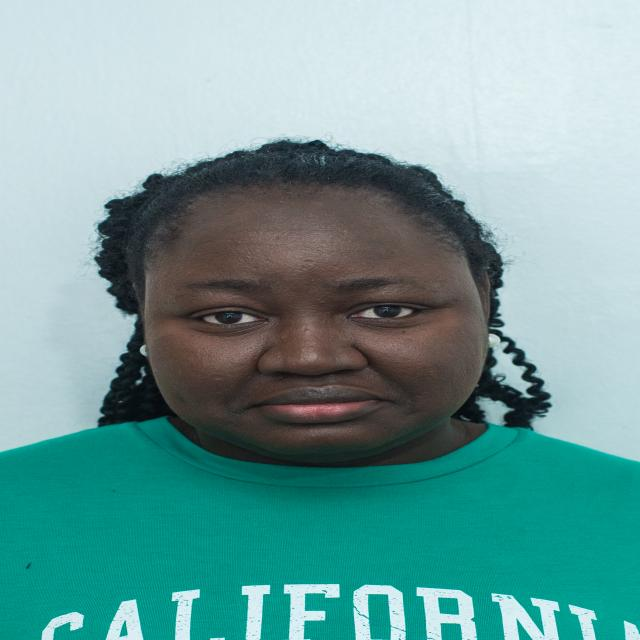sad: (118, 170, 490, 463)
